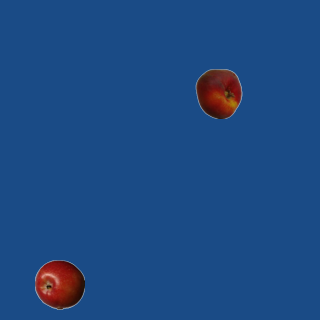Apple Braeburn: (34, 259, 84, 309)
Nectarine Flat: (193, 68, 243, 118)
